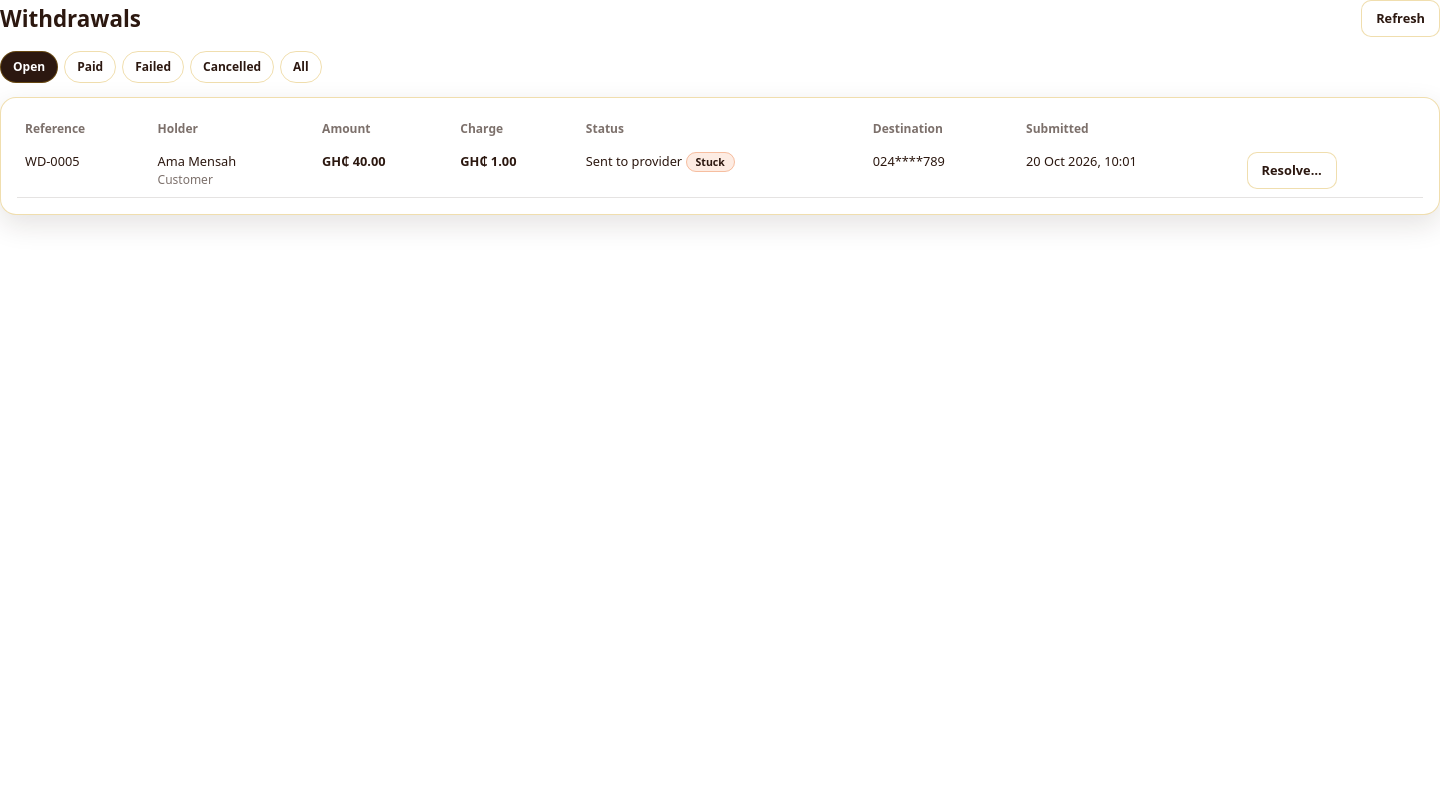
Test: Staff withdrawals queue › test_each_refusal_code_shows_its_server_detail (provider_processing)
The width and height of the screenshot is (1440, 810).
Step 1. Click the button "Resolve…" → {"x": 1292, "y": 171}, box [1247,152,1337,189]
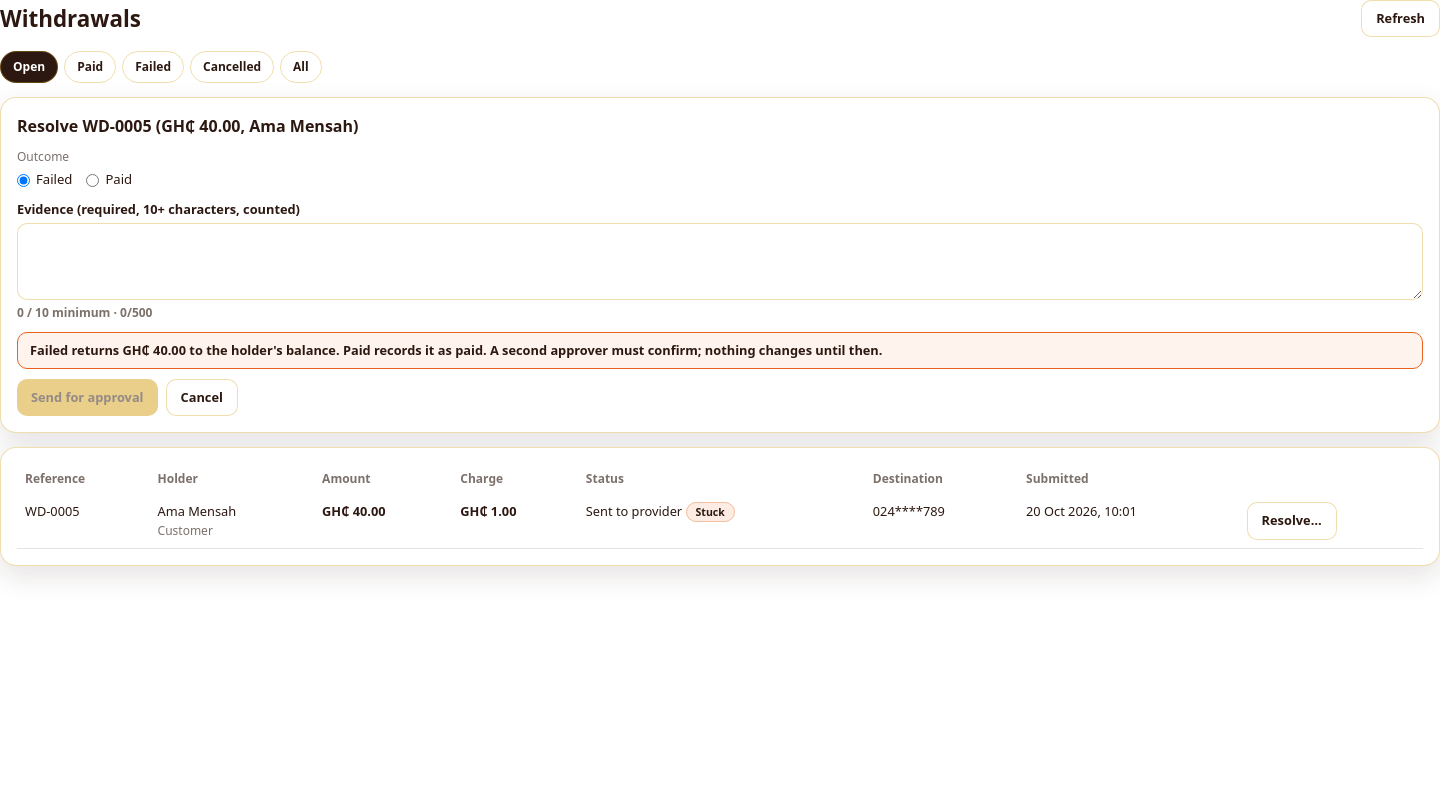
Step 2. Type "Hubtel statement shows no payout for WD-0005" into the text box labelled "Evidence" → {"x": 720, "y": 262}, box [17,223,1423,300]
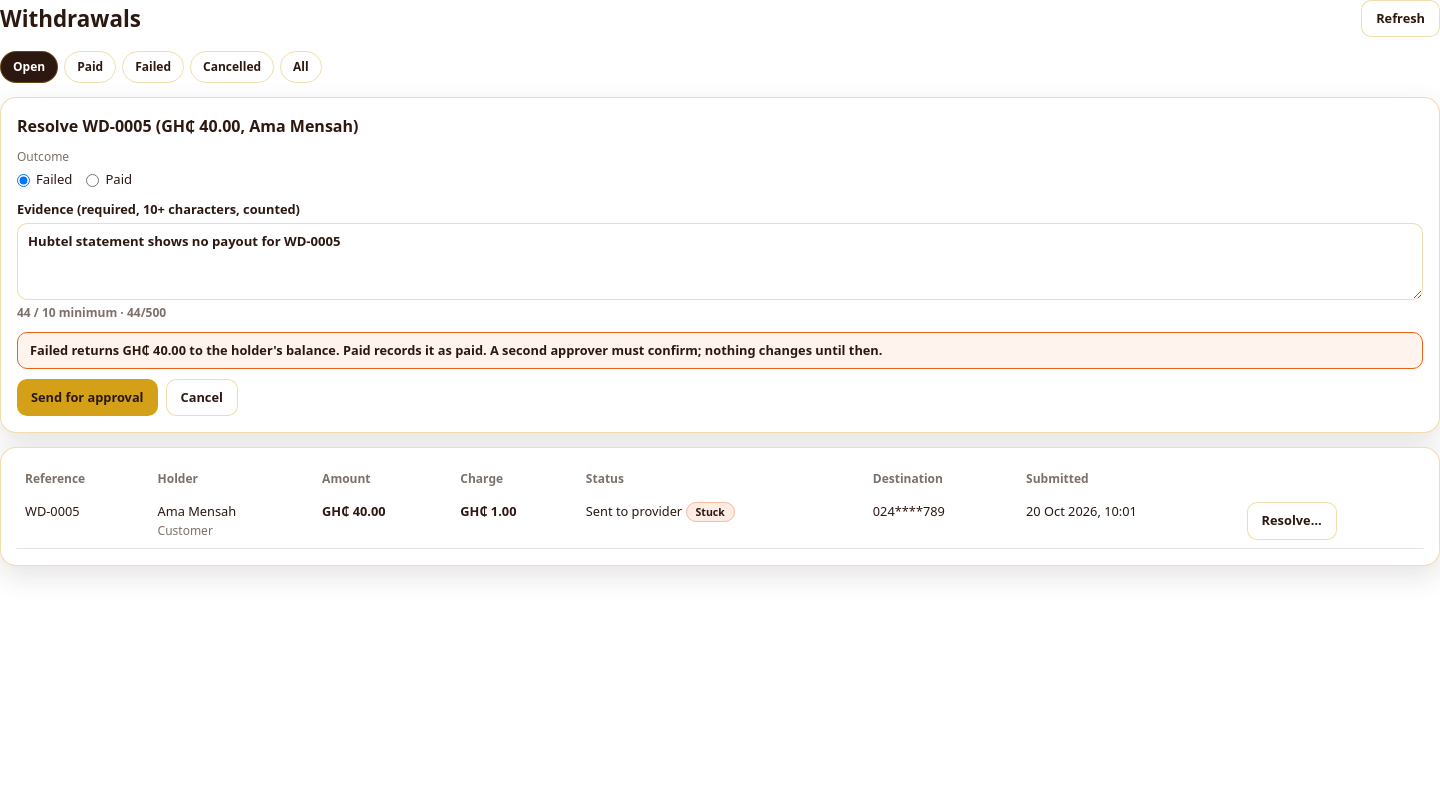
Step 3. Click the button "Send for approval" → {"x": 87, "y": 398}, box [17,379,158,416]
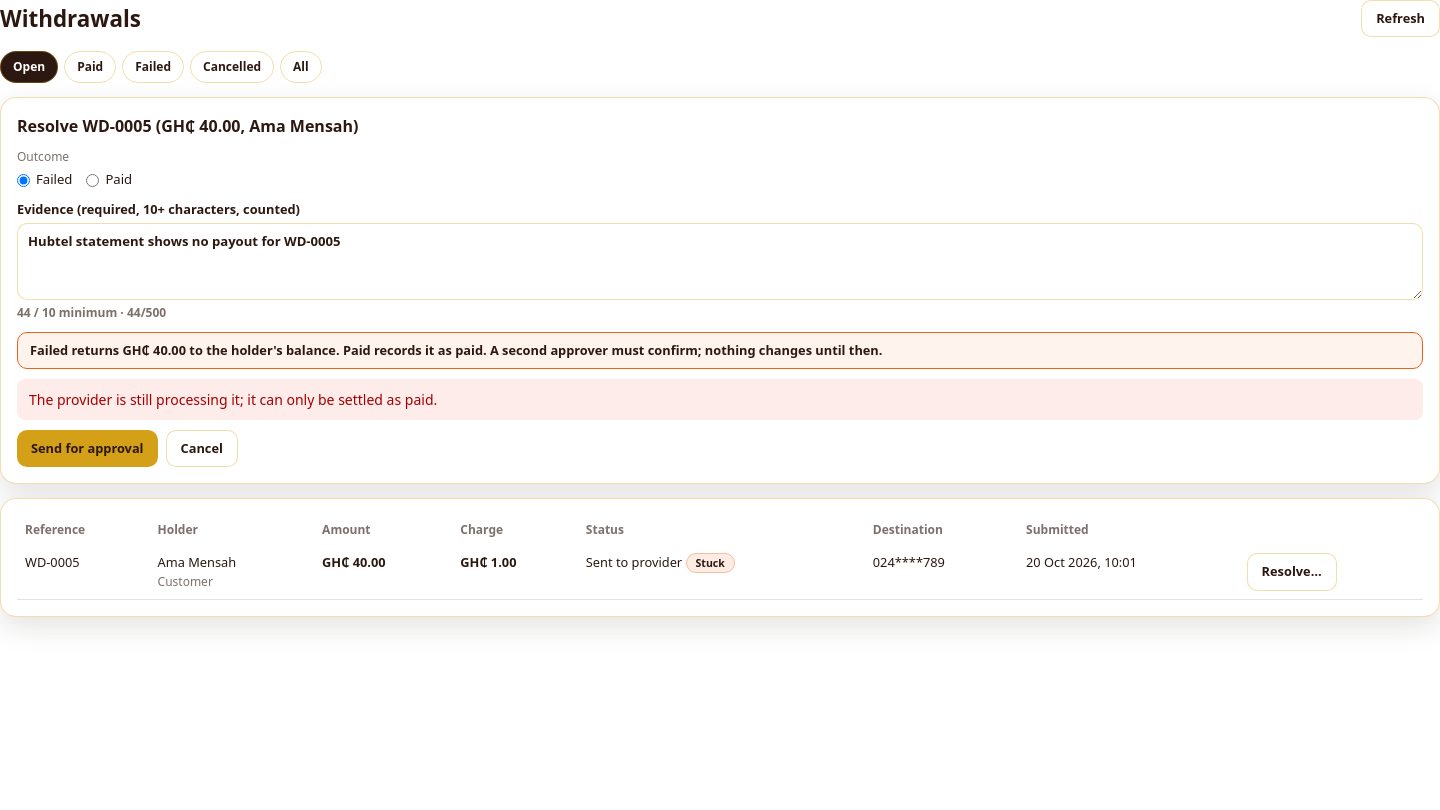
expect the message reads "The provider is still processing it; it can only be settled as paid.": met, box [29,390,437,409]
